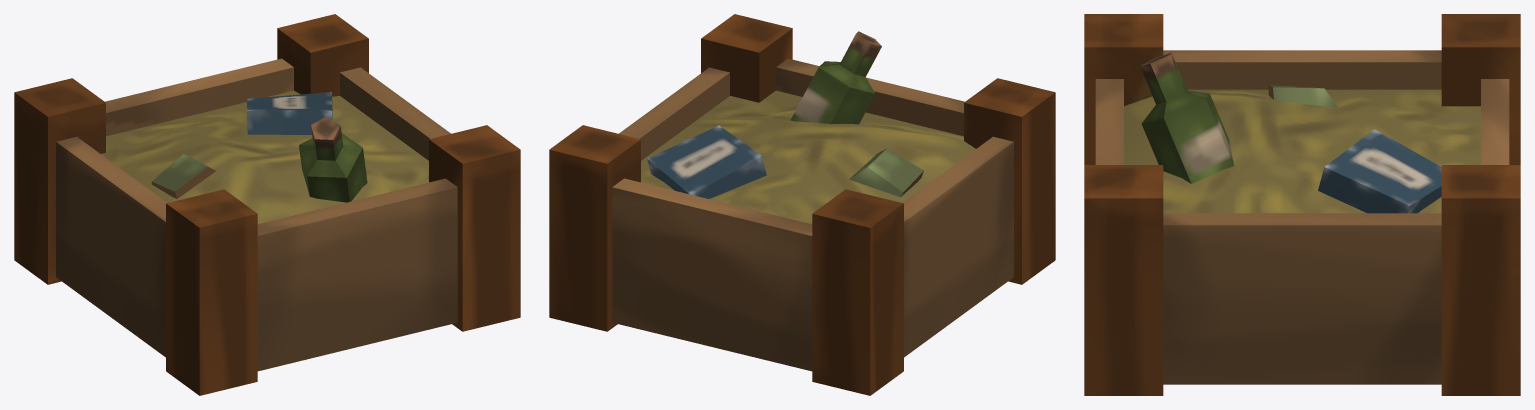
Rendered from SmallCrate2.fbx.
3 renders of one model, left to right at view 1: azimuth 30°, elevation 25°; view 2: azimuth 150°, elevation 25°; view 3: azimuth 270°, elevation 25°, orthographic. The views are drawn at different scales.
Parts seen in each view (by area): view 1: SmallCrate2; view 2: SmallCrate2; view 3: SmallCrate2.
Boxes of the visible parts, bbox=[...] form: SmallCrate2: bbox=[14, 14, 520, 395]; SmallCrate2: bbox=[549, 14, 1055, 395]; SmallCrate2: bbox=[1084, 14, 1520, 395].
Bounding box in the file's own units: 211 × 134 × 211.
